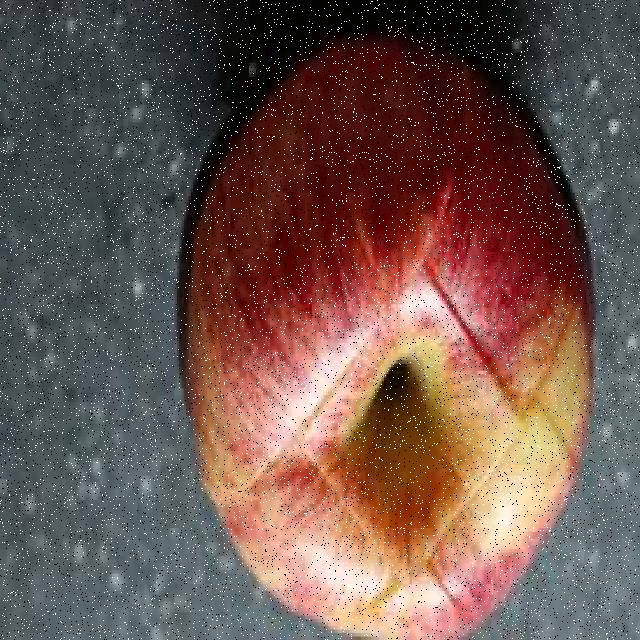Apple: (183, 31, 589, 639)
